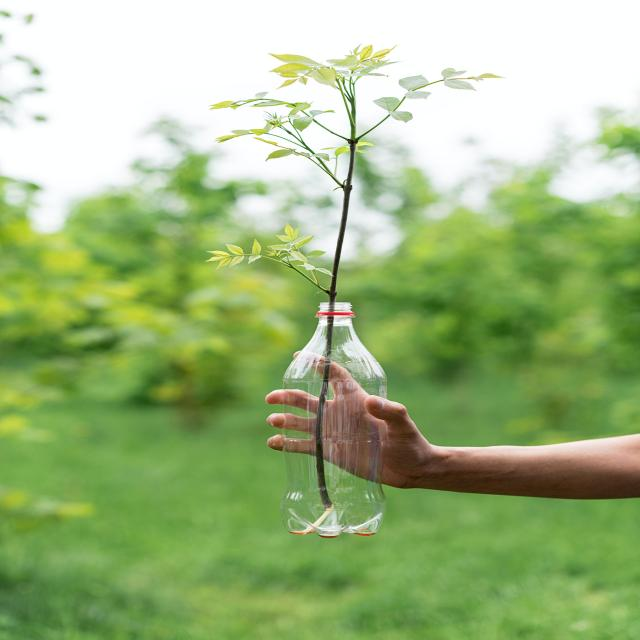bottle: (269, 290, 406, 551)
